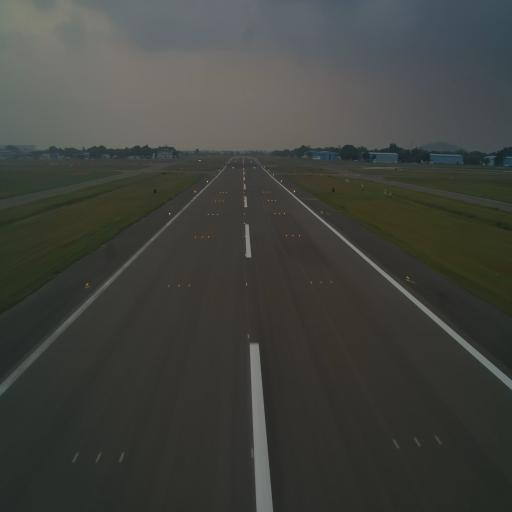on: (248, 444, 256, 460), (404, 274, 410, 283), (84, 280, 89, 288), (246, 331, 250, 340), (319, 278, 323, 286), (329, 278, 332, 284), (178, 283, 181, 288), (188, 283, 191, 288), (310, 280, 313, 285), (246, 282, 248, 287), (168, 284, 170, 288)
